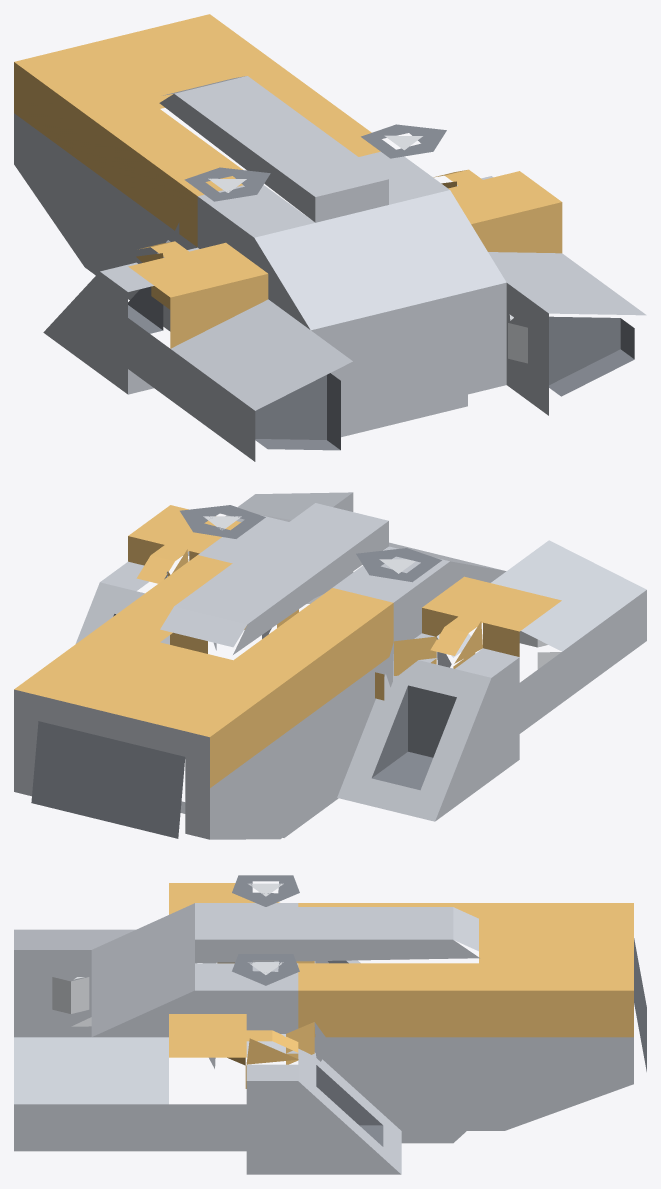
The model's file is craft_hauler_lod1.glb.
The picture shows the model from 3 angles, top to bottom: view 1: azimuth 30°, elevation 25°; view 2: azimuth 150°, elevation 25°; view 3: azimuth 270°, elevation 25°; orthographic projection. The views are drawn at different scales.
Parts seen in each view (by area): view 1: craft_hauler.001; view 2: craft_hauler.001; view 3: craft_hauler.001.
Part boxes in pixels (<box>): craft_hauler.001: <box>14,14,646,461</box>; craft_hauler.001: <box>14,492,646,839</box>; craft_hauler.001: <box>14,875,646,1174</box>.
Bounding box in the file's own units: 1.6 × 0.8 × 2.45.
